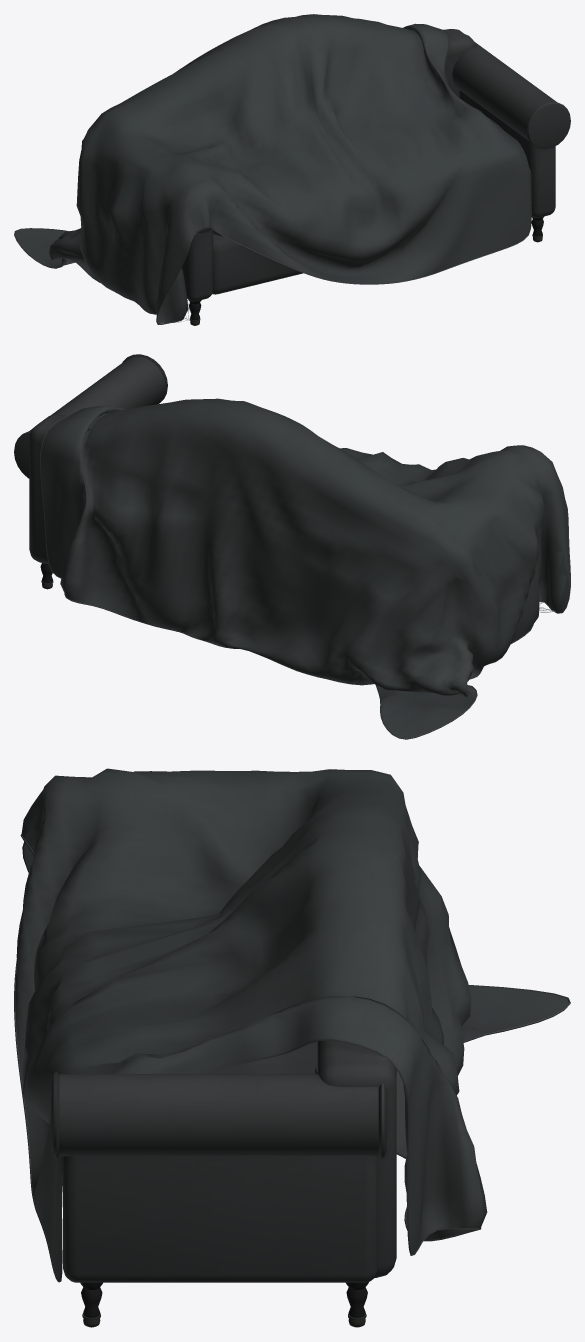
File: dust-sheet-sofa.glb
3 renders of one model, top to bottom at view 1: azimuth 30°, elevation 25°; view 2: azimuth 150°, elevation 25°; view 3: azimuth 270°, elevation 25°, orthographic. The views are drawn at different scales.
Parts seen in each view (by area): view 1: dust-sheet-sofa_body; view 2: dust-sheet-sofa_body; view 3: dust-sheet-sofa_body.
Part boxes in pixels (x1,y1,x2,y2): dust-sheet-sofa_body: (14, 14, 570, 325); dust-sheet-sofa_body: (14, 354, 570, 739); dust-sheet-sofa_body: (14, 768, 570, 1327).
Size of the model in its own units: 2.34 by 1.08 by 1.55.
Materials: 3 (1 with a texture image).
